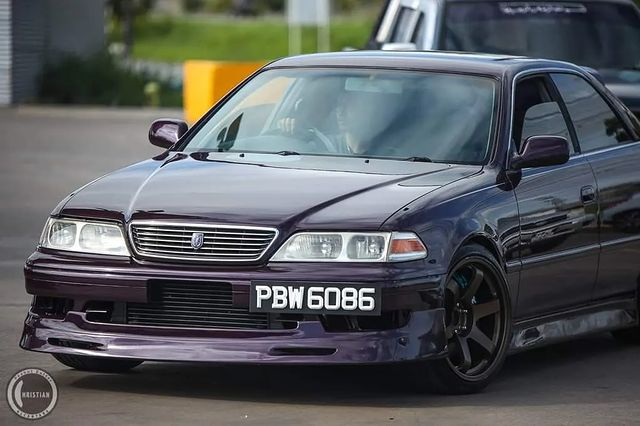License-Plate: (251, 279, 381, 310)
